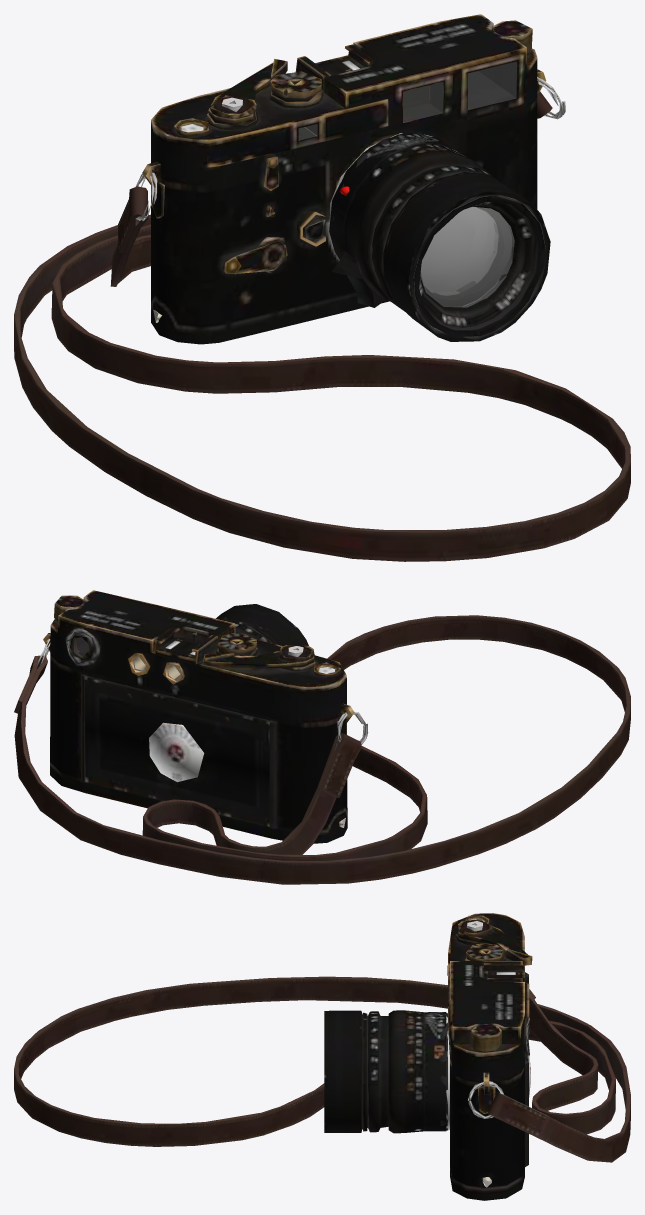
File: camera.glb
The picture shows the model from 3 angles, top to bottom: view 1: azimuth 30°, elevation 25°; view 2: azimuth 150°, elevation 25°; view 3: azimuth 270°, elevation 25°; orthographic projection. The views are drawn at different scales.
Visible parts, largest first — view 1: Camera_01, Camera_01_strap; view 2: Camera_01, Camera_01_strap; view 3: Camera_01, Camera_01_strap.
Boxes of the visible parts, x1=… form: Camera_01: x1=142, y1=14, x2=550, y2=344; Camera_01_strap: x1=14, y1=77, x2=630, y2=561; Camera_01: x1=43, y1=590, x2=354, y2=843; Camera_01_strap: x1=14, y1=615, x2=630, y2=884; Camera_01: x1=324, y1=913, x2=532, y2=1200; Camera_01_strap: x1=14, y1=976, x2=630, y2=1162.
Size of the model in its own units: 0.2139 by 0.0778 by 0.2628.
4 materials, 3 textured.
